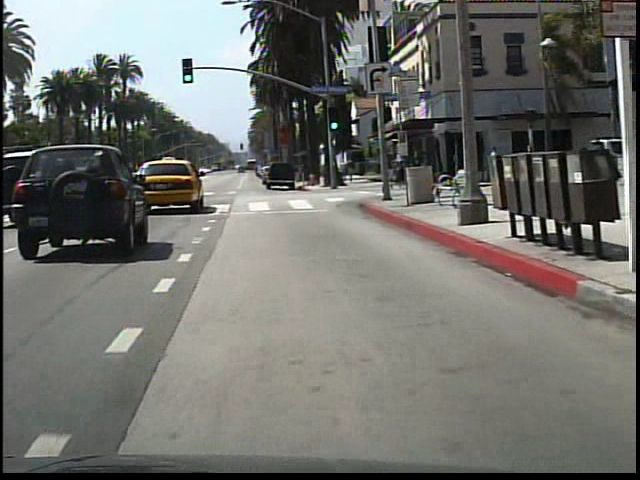person: (486, 144, 506, 189), (387, 149, 403, 195)
